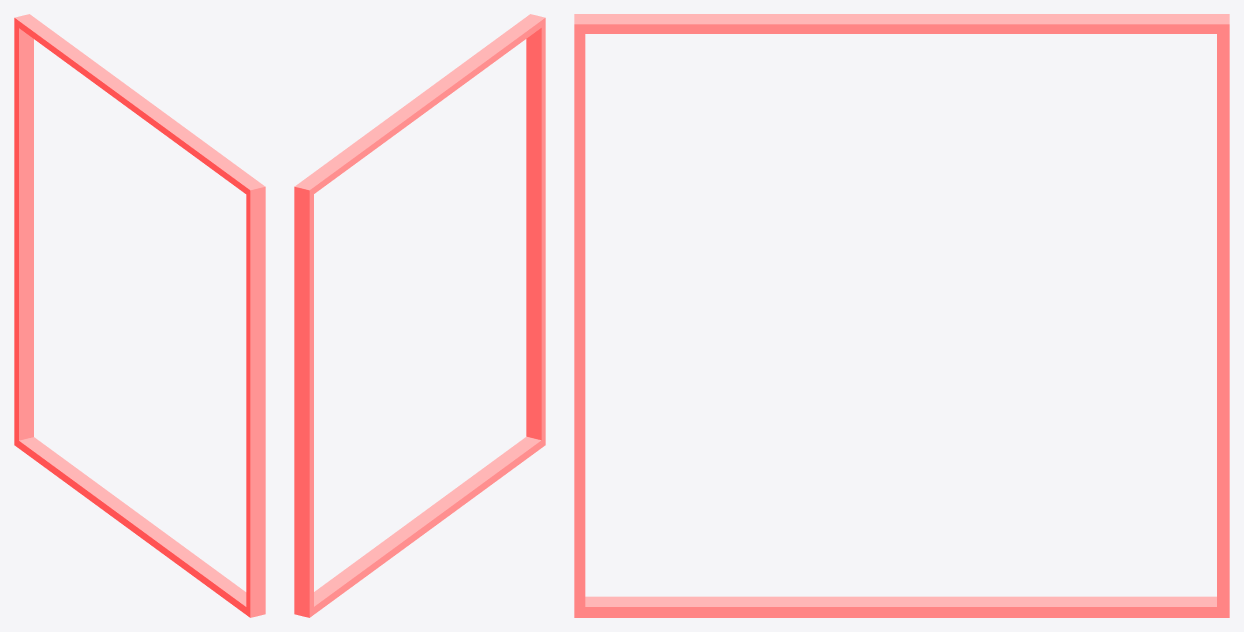
The model's file is defaultneonsquarer.glb.
3 renders of one model, left to right at view 1: azimuth 30°, elevation 25°; view 2: azimuth 150°, elevation 25°; view 3: azimuth 270°, elevation 25°, orthographic. The views are drawn at different scales.
Parts seen in each view (by area): view 1: DefaultNeonSquareR; view 2: DefaultNeonSquareR; view 3: DefaultNeonSquareR.
Part boxes in pixels (left/top/right/bottom): DefaultNeonSquareR: left=14, top=14, right=265, bottom=617; DefaultNeonSquareR: left=294, top=14, right=545, bottom=617; DefaultNeonSquareR: left=574, top=14, right=1229, bottom=617.
Size of the model in its own units: 0.074 by 2 by 2.
